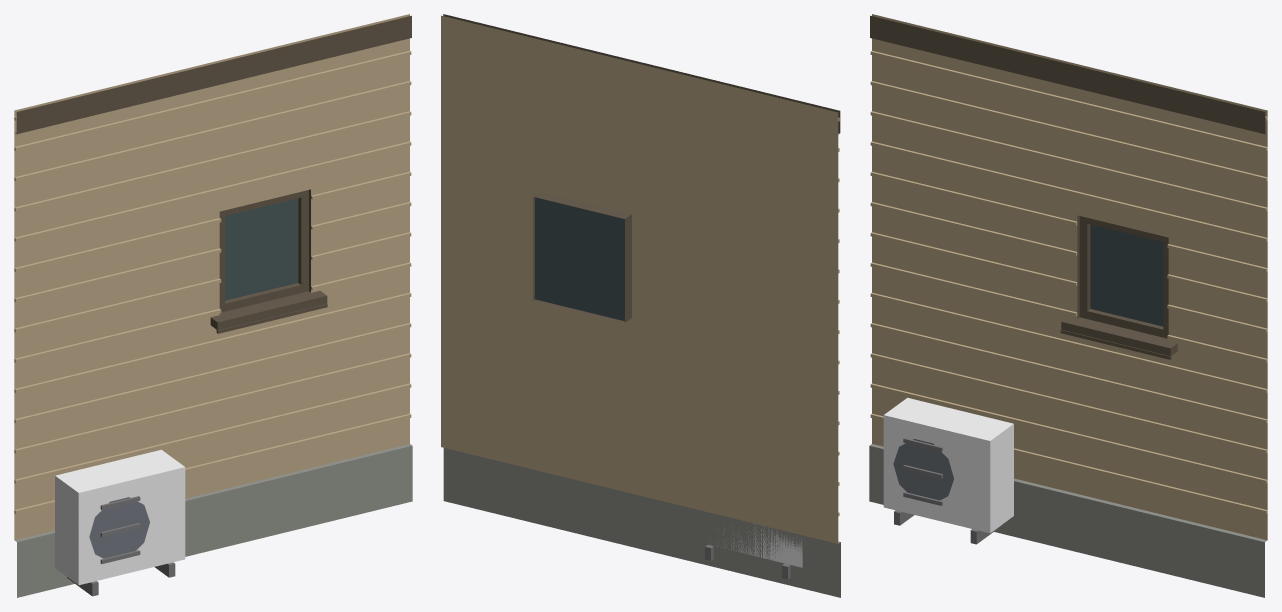
File: base-w2_close.fbx
3 renders of one model, left to right at view 1: azimuth 30°, elevation 25°; view 2: azimuth 150°, elevation 25°; view 3: azimuth 330°, elevation 25°, orthographic.
Visible parts, largest first — view 1: a2015/0/base-w2_close; view 2: a2015/0/base-w2_close; view 3: a2015/0/base-w2_close.
Part boxes in pixels (bbox=[...]): a2015/0/base-w2_close: bbox=[14, 14, 412, 597]; a2015/0/base-w2_close: bbox=[441, 14, 840, 597]; a2015/0/base-w2_close: bbox=[869, 14, 1267, 597].
Bounding box in the file's own units: 2.6 × 3.05 × 0.4.
